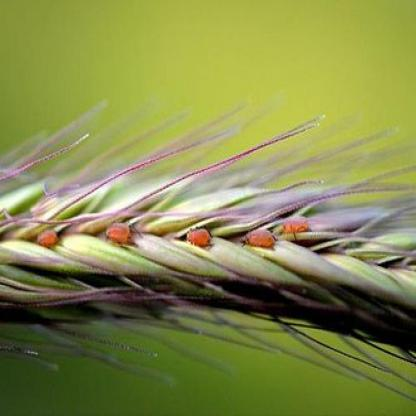aphid: (99, 209, 138, 252), (32, 208, 66, 254), (185, 220, 216, 264), (238, 224, 279, 254), (280, 210, 309, 243)
